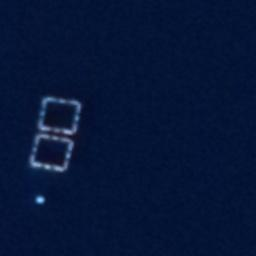square_solid: (25, 130, 80, 176), (33, 93, 86, 138)
